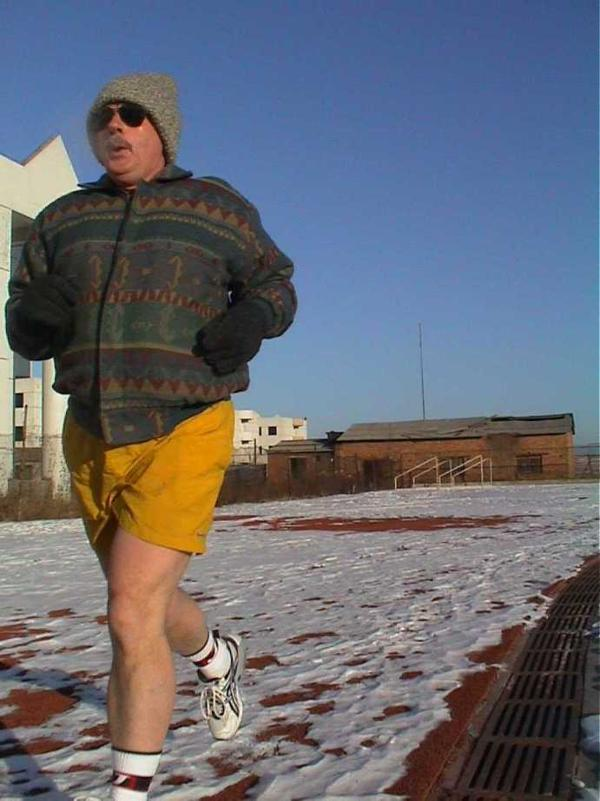person: (7, 67, 299, 797)
